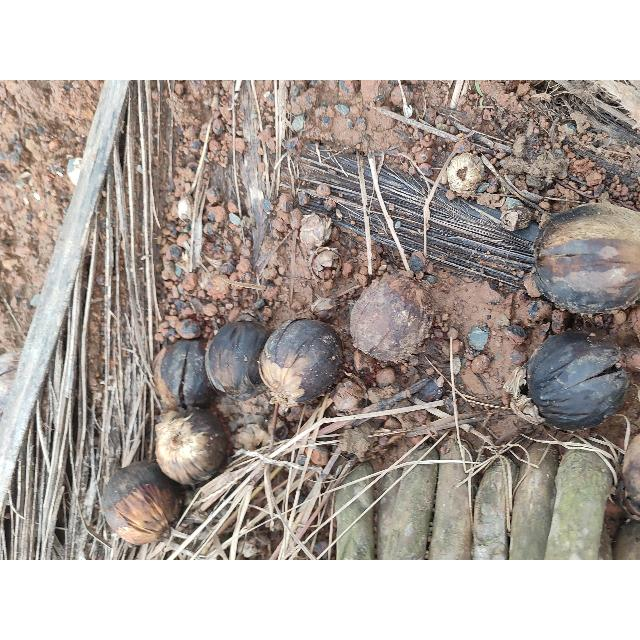damaged: (98, 414, 228, 548)
